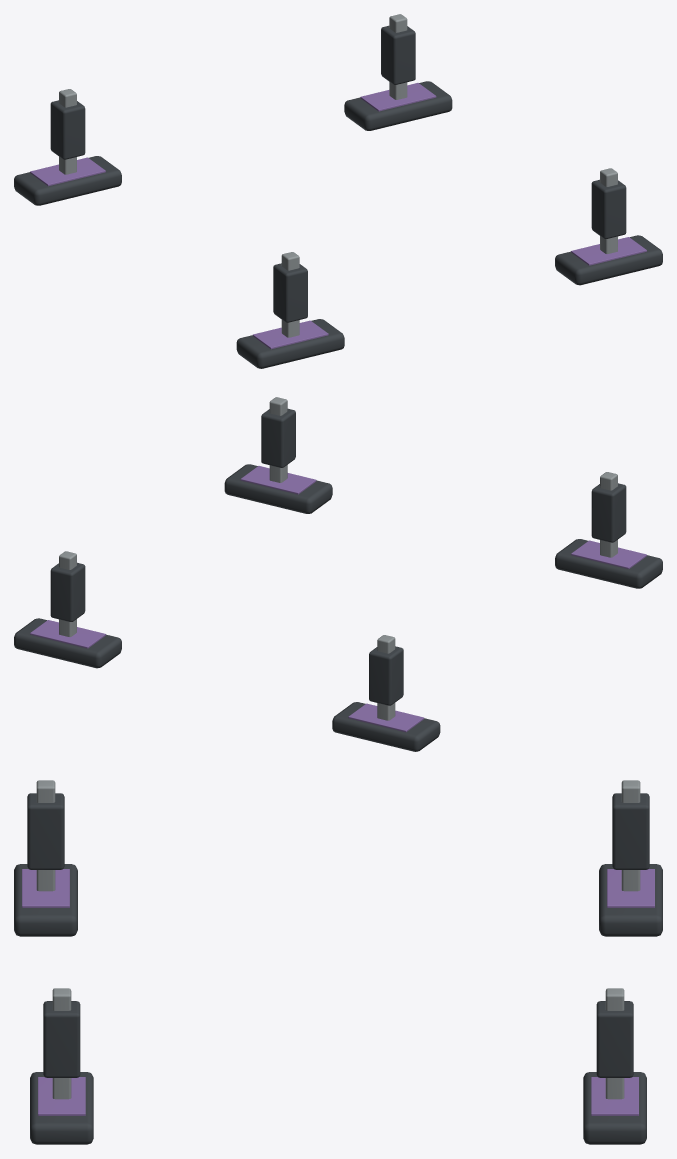
File: SM_NexusRobotics_Gear.fbx
3 renders of one model, top to bottom at view 1: azimuth 30°, elevation 25°; view 2: azimuth 150°, elevation 25°; view 3: azimuth 270°, elevation 25°, orthographic. The views are drawn at different scales.
Visible parts, largest first — view 1: SM_NexusRobotics_Gear.001; view 2: SM_NexusRobotics_Gear.001; view 3: SM_NexusRobotics_Gear.001.
Part boxes in pixels (left/top/right/bottom): SM_NexusRobotics_Gear.001: left=14, top=14, right=662, bottom=368; SM_NexusRobotics_Gear.001: left=14, top=397, right=662, bottom=751; SM_NexusRobotics_Gear.001: left=14, top=780, right=662, bottom=1144.
Bounding box in the file's own units: 23500 × 24400 × 5300.
